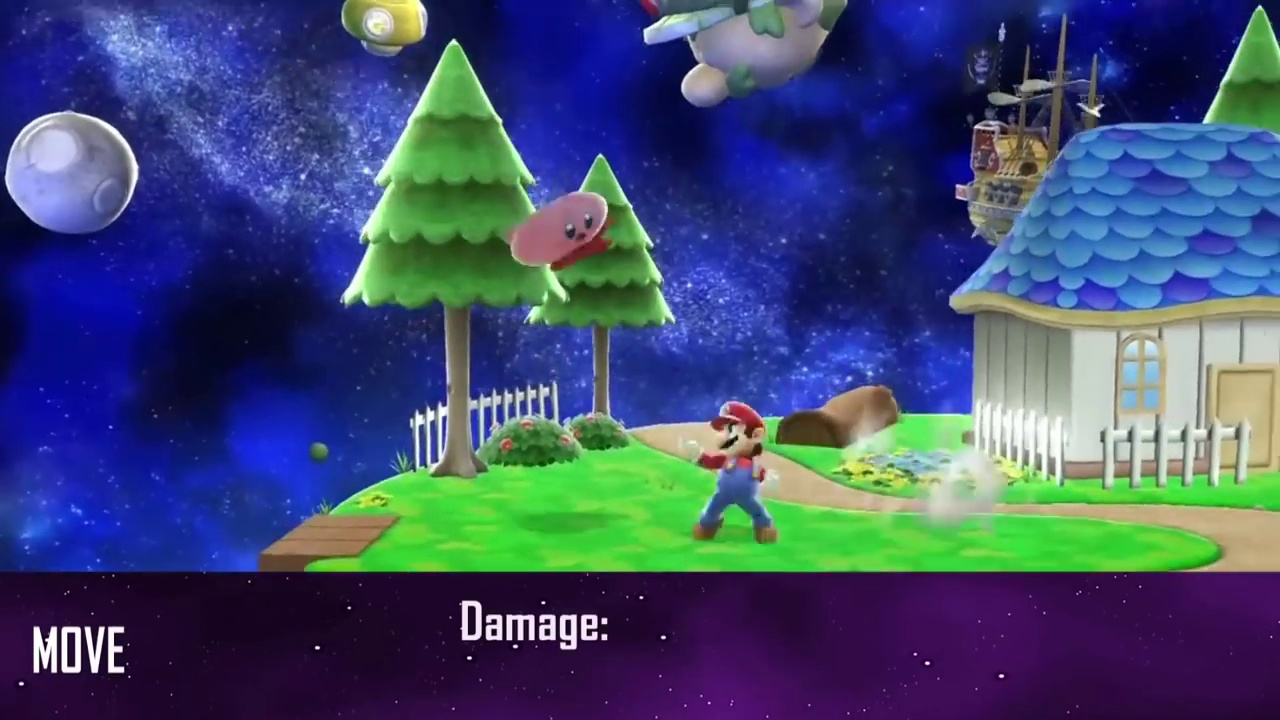Mario: (676, 402, 779, 540)
